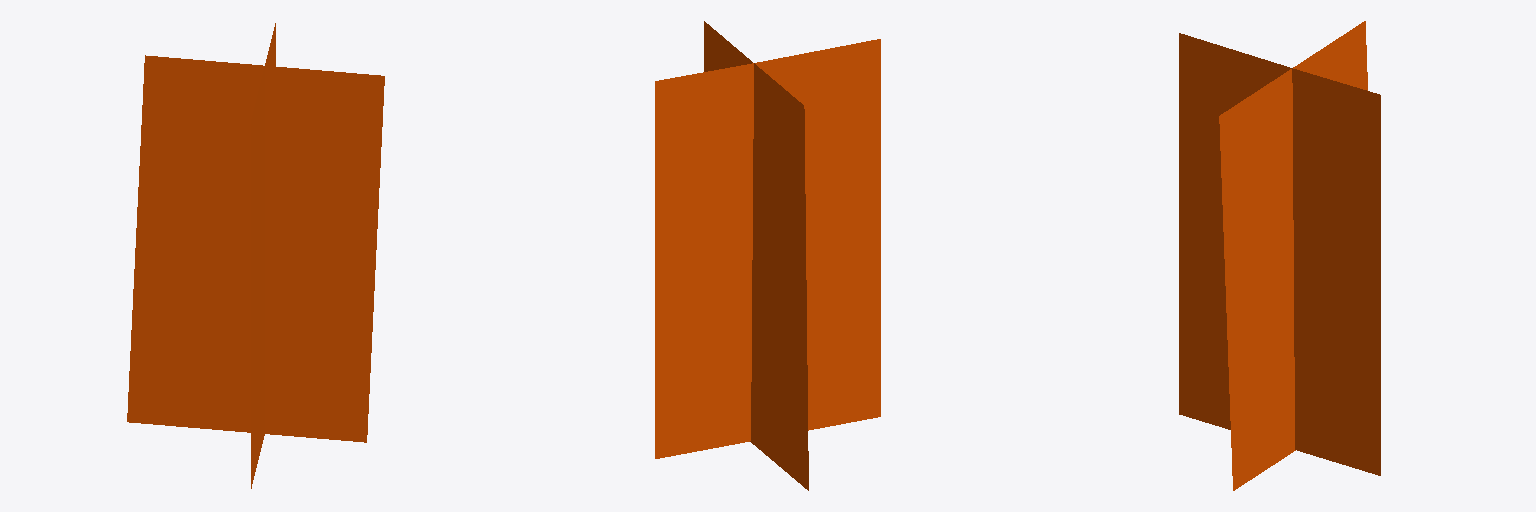
URDF robot description (Plant_81509d83b600f9b573ab7b7128d466a2):
<?xml version="1.0" ?>
<robot name="Plant_81509d83b600f9b573ab7b7128d466a2">
   <material name="obj_color">
      <color rgba="1.0 0.423529411765 0.0392156862745 1.0"/>
   </material>
   <link name="top">
      <inertial>
         <origin rpy="0.0009551086978193771 0.003100805911303268 0.00311224916325164" xyz="-0.00128305453758649 -0.0007921694377587236 0.0003455157205405439"/>
         <mass value="1.001207863794408"/>
         <inertia ixx="0.00311111582087664" ixy="2.260421239342561e-06" ixz="-4.55189288080968e-05" iyy="0.003100189675384369" iyz="4.108027982370665e-05" izz="0.0009568582761132789"/>
      </inertial>
      <visual>
         <origin rpy="0 0 0" xyz="0 0 0"/>
         <geometry>
            <mesh filename="top_watertight_tiny.stl" scale="1 1 1"/>
         </geometry>
         <material name="obj_color"/>
      </visual>
      <collision>
         <origin rpy="0 0 0" xyz="0 0 0"/>
         <geometry>
            <mesh filename="top_watertight_tiny.obj" scale="1 1 1"/>
         </geometry>
      </collision>
   </link>
   <link name="bottom">
      <inertial>
         <origin rpy="1.633333333199431e-08 1.633333333199431e-08 1.633333333362855e-08" xyz="0.3464080000000008 0.3464080000000008 0.3464080000000008"/>
         <mass value="0.0009800000000000017"/>
         <inertia ixx="1.633333333253906e-08" ixy="5.447480642029219e-19" ixz="5.447480642029219e-19" iyy="1.633333333253906e-08" iyz="5.447480642029219e-19" izz="1.633333333253906e-08"/>
      </inertial>
      <visual>
         <origin rpy="0 0 0" xyz="0 0 0"/>
         <geometry>
            <mesh filename="bottom_watertight_tiny.stl" scale="1 1 1"/>
         </geometry>
         <material name="obj_color"/>
      </visual>
   </link>
   <link name="world"/>
   <joint name="world_to_base" type="fixed">
      <origin xyz="0 0 0"/>
      <axis xyz="0 0 0"/>
      <parent link="world"/>
      <child link="bottom"/>
   </joint>
   <joint name="rotation" type="revolute">
      <origin xyz="0 0 0"/>
      <axis xyz="0 0 -1"/>
      <parent link="bottom"/>
      <child link="top"/>
      <dynamics damping="1.0" friction="1.0"/>
      <limit effort="0.1" velocity="0.1" lower="0" upper="0.001"/>
   </joint>
</robot>

--- What the picture shows (computed from the rendered views, not written in the file) ---
The picture shows the robot from 3 angles, left to right: view 1: azimuth 30°, elevation 25°; view 2: azimuth 150°, elevation 25°; view 3: azimuth 270°, elevation 25°; orthographic projection.
Model Plant_81509d83b600f9b573ab7b7128d466a2 with 3 links and 2 joints (1 revolute, 1 fixed), rooted at world, posed every joint at zero.
Visible links, largest first — view 1: top; view 2: top; view 3: top.
Boxes of the visible links, x1,y1,x2,y2 form: top: [127, 23, 384, 488]; top: [655, 21, 880, 490]; top: [1179, 21, 1380, 490].
Size in the robot's own frame: 0.0911 by 0.0855 by 0.1829 metres.
Meshes: 2 distinct files referenced, 1 mesh visuals loaded (1 binary STL); not drawn: 1 (reference not matched to a file when rendering).
